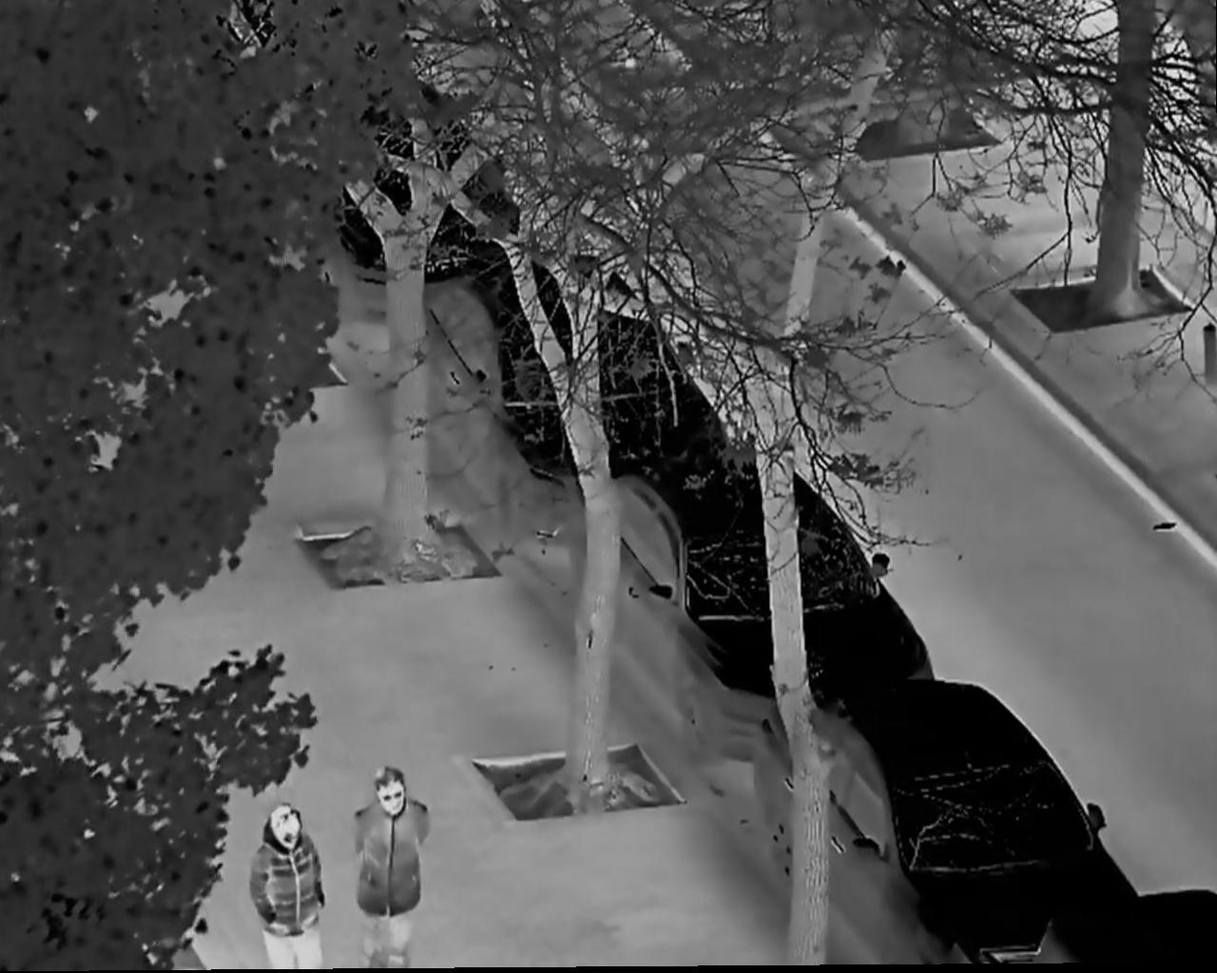person: (348, 766, 428, 970), (240, 804, 331, 973)
